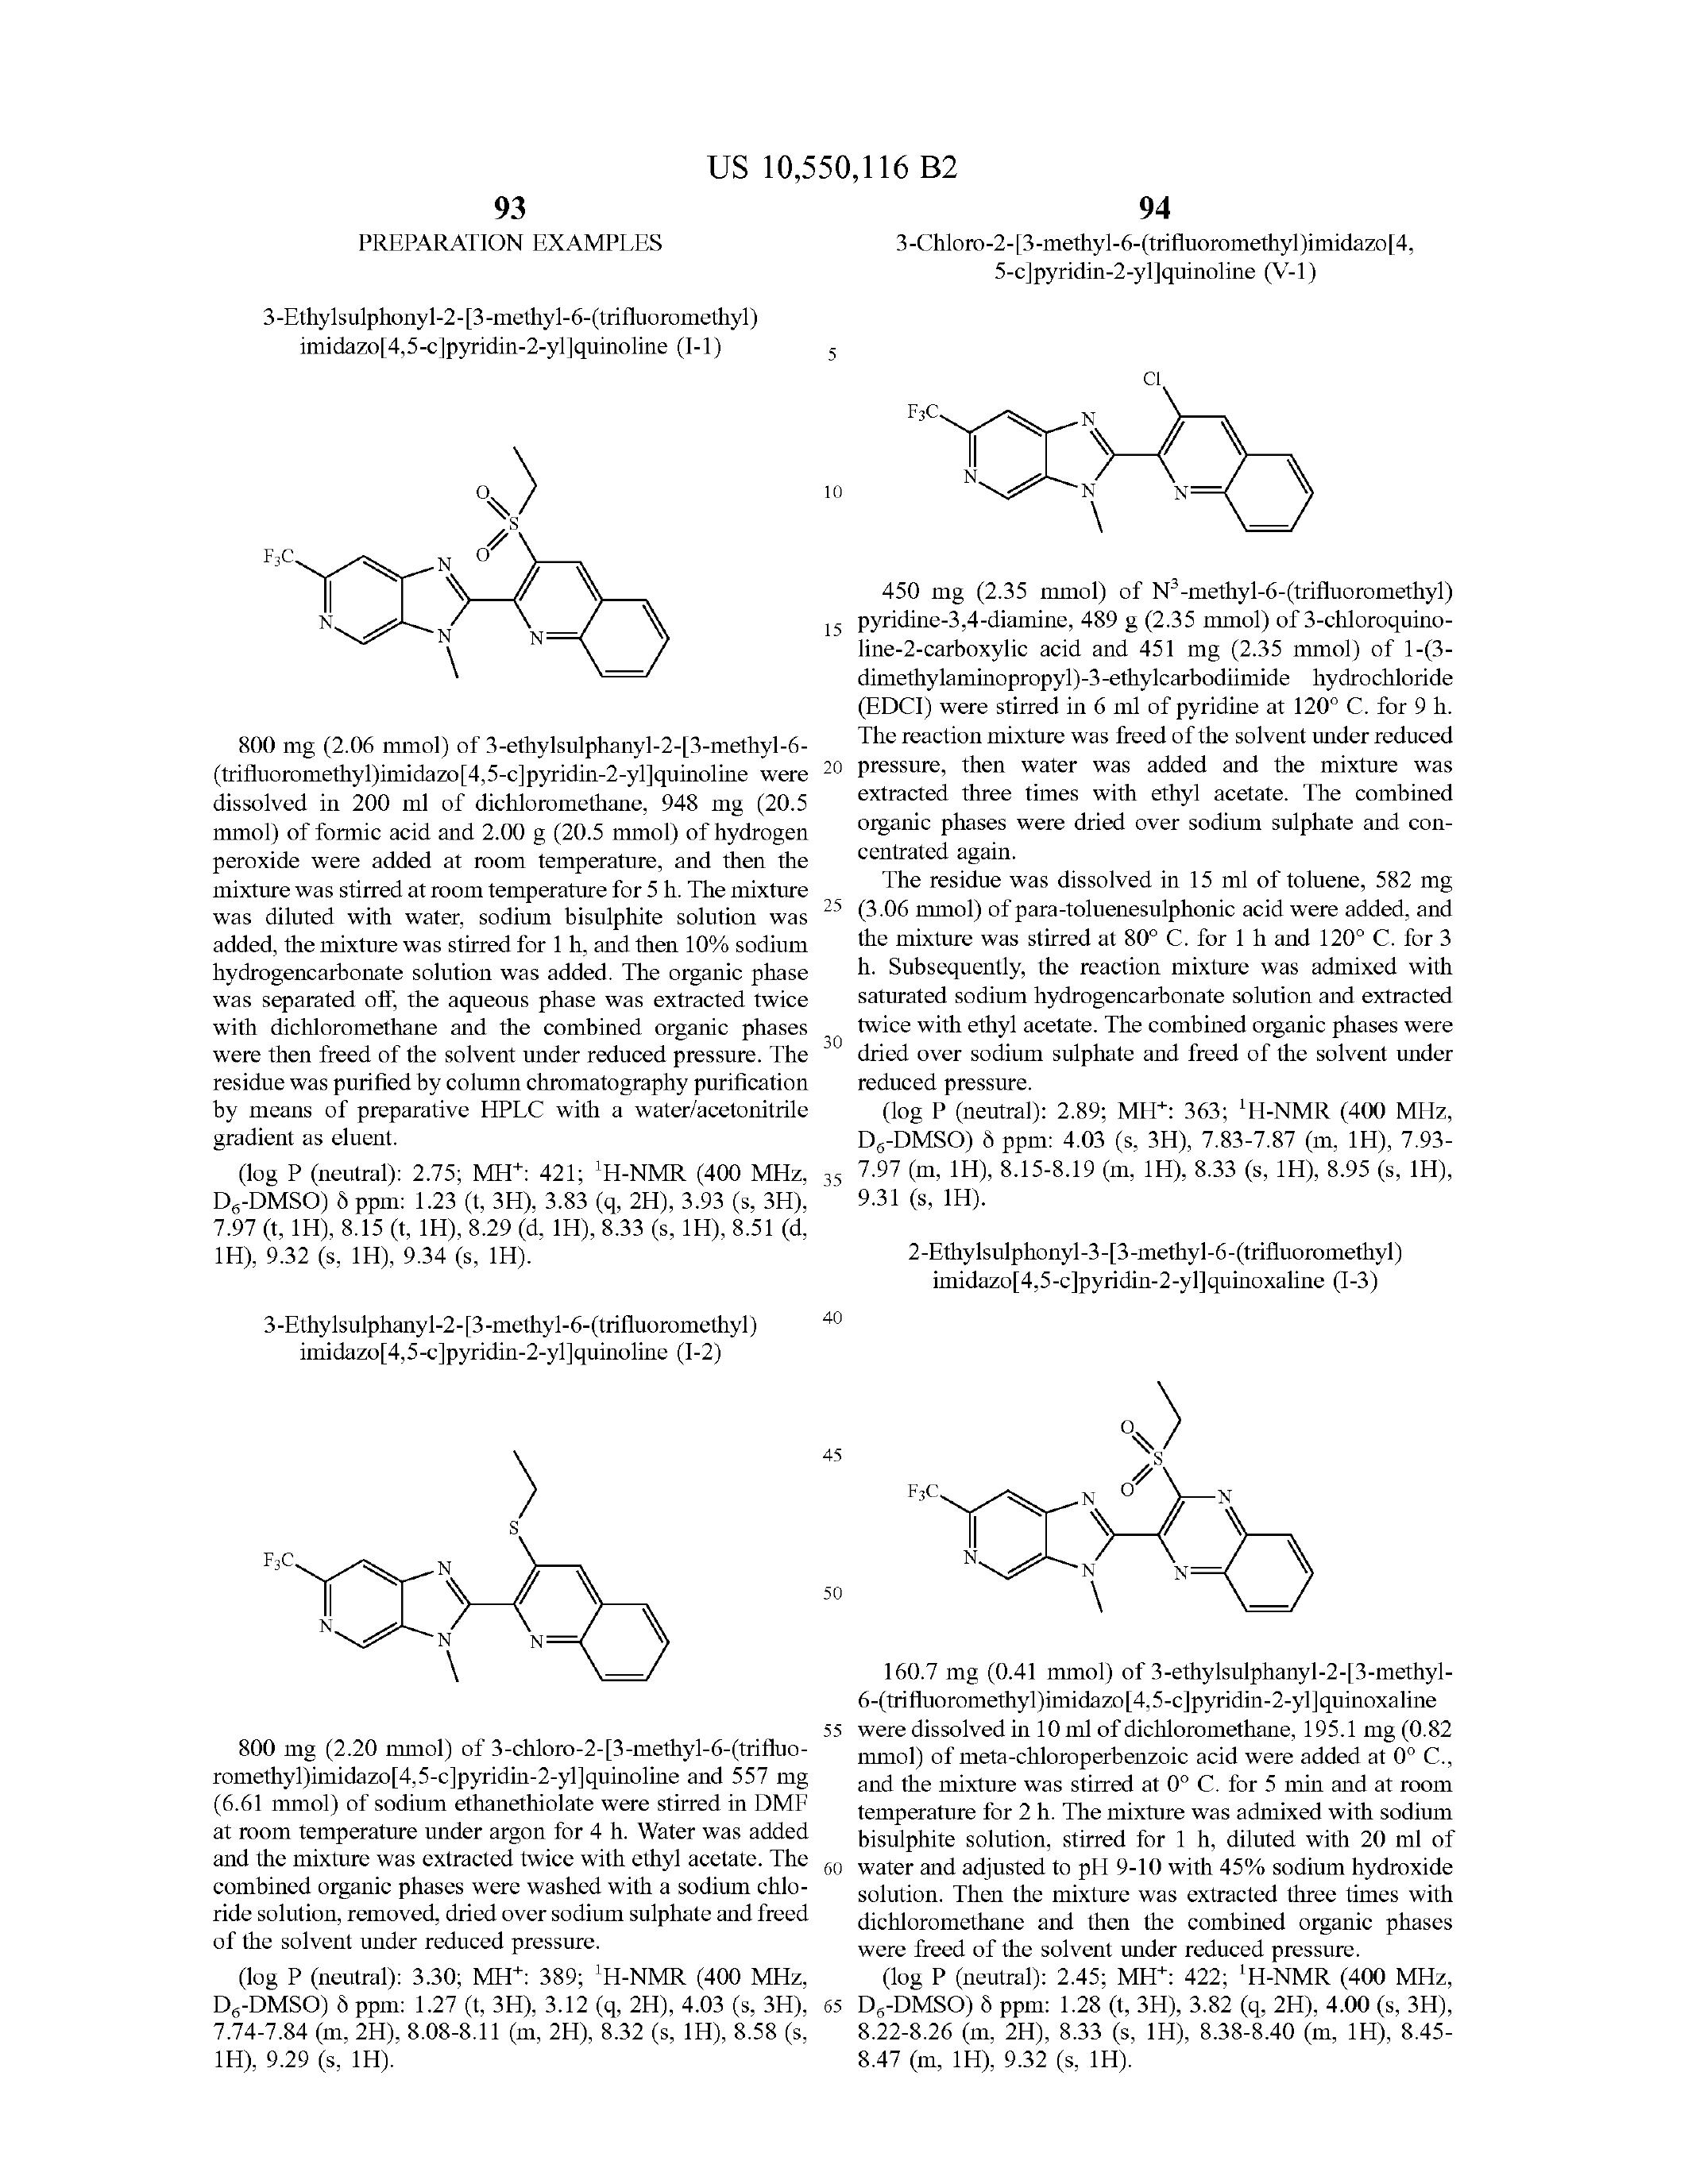intermediates: (223, 402, 734, 727)
relevant-structures: (229, 1448, 757, 1725), (894, 1358, 1362, 1640), (890, 355, 1332, 565)
